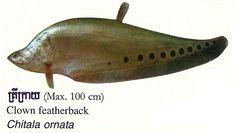Knifefish: (7, 2, 230, 88)
